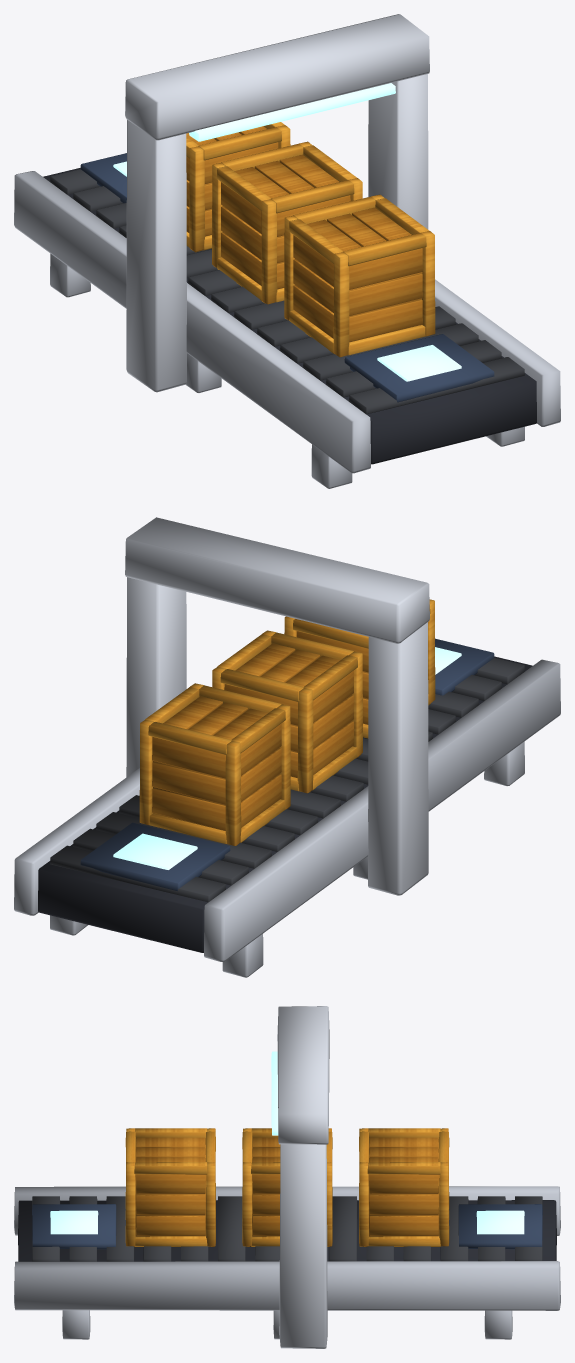
File: OBJ22_queue_conveyor_gate.glb
3 renders of one model, top to bottom at view 1: azimuth 30°, elevation 25°; view 2: azimuth 150°, elevation 25°; view 3: azimuth 270°, elevation 25°, orthographic. The views are drawn at different scales.
Parts seen in each view (by area): view 1: SideRail_-1, GateHeader, GatePillar_-1, BeltChassis, GatePillar_1, ArrowPad_10, SideRail_1, GateScannerStrip, Slat_13, SideSlatZ_1_13, SideSlatZ_0_13, ArrowGlow_10 (+47 smaller); view 2: SideRail_-1, GateHeader, GatePillar_-1, BeltChassis, GatePillar_1, ArrowPad_-10, SideRail_1, Slat_0, SideSlatZ_1_-1, SideSlatZ_0_-1, ArrowGlow_-10, SideSlatZ_2_-1 (+45 smaller); view 3: SideRail_1, GatePillar_1, GateHeader, BeltChassis, SideRail_-1, ArrowPad_10, ArrowPad_-10, Slat_8, Slat_5, SideSlatX_1_1, SideSlatX_1_13, SideSlatX_0_1 (+39 smaller).
Part boxes in pixels (bbox=[...]): SideRail_-1: bbox=[14, 171, 370, 473]; GateHeader: bbox=[125, 14, 429, 140]; GatePillar_-1: bbox=[126, 120, 186, 392]; BeltChassis: bbox=[43, 168, 536, 464]; GatePillar_1: bbox=[368, 74, 428, 229]; ArrowPad_10: bbox=[344, 334, 494, 402]; SideRail_1: bbox=[435, 279, 560, 426]; GateScannerStrip: bbox=[189, 83, 395, 141]; Slat_13: bbox=[349, 357, 524, 414]; SideSlatZ_1_13: bbox=[349, 273, 422, 315]; SideSlatZ_0_13: bbox=[349, 299, 422, 341]; ArrowGlow_10: bbox=[377, 345, 461, 381]; SideRail_-1: bbox=[204, 659, 560, 961]; GateHeader: bbox=[125, 517, 429, 643]; GatePillar_-1: bbox=[368, 622, 428, 895]; BeltChassis: bbox=[38, 656, 532, 952]; GatePillar_1: bbox=[126, 577, 186, 777]; ArrowPad_-10: bbox=[80, 822, 230, 890]; SideRail_1: bbox=[14, 768, 139, 915]; Slat_0: bbox=[50, 845, 225, 902]; SideSlatZ_1_-1: bbox=[152, 762, 225, 804]; SideSlatZ_0_-1: bbox=[152, 788, 225, 830]; ArrowGlow_-10: bbox=[113, 833, 197, 869]; SideSlatZ_2_-1: bbox=[152, 737, 225, 778]; SideRail_1: bbox=[14, 1261, 560, 1310]; GatePillar_1: bbox=[279, 1144, 327, 1348]; GateHeader: bbox=[277, 1006, 329, 1144]; BeltChassis: bbox=[18, 1200, 556, 1261]; SideRail_-1: bbox=[14, 1186, 560, 1235]; ArrowPad_10: bbox=[32, 1204, 116, 1249]; ArrowPad_-10: bbox=[458, 1204, 542, 1249]; Slat_8: bbox=[217, 1196, 245, 1261]; Slat_5: bbox=[329, 1196, 357, 1261]; SideSlatX_1_1: bbox=[369, 1194, 438, 1214]; SideSlatX_1_13: bbox=[136, 1194, 205, 1214]; SideSlatX_0_1: bbox=[369, 1216, 438, 1235].
Size of the model in its own units: 1.28 by 1.33 by 2.72.
8 materials, 2 textured.
